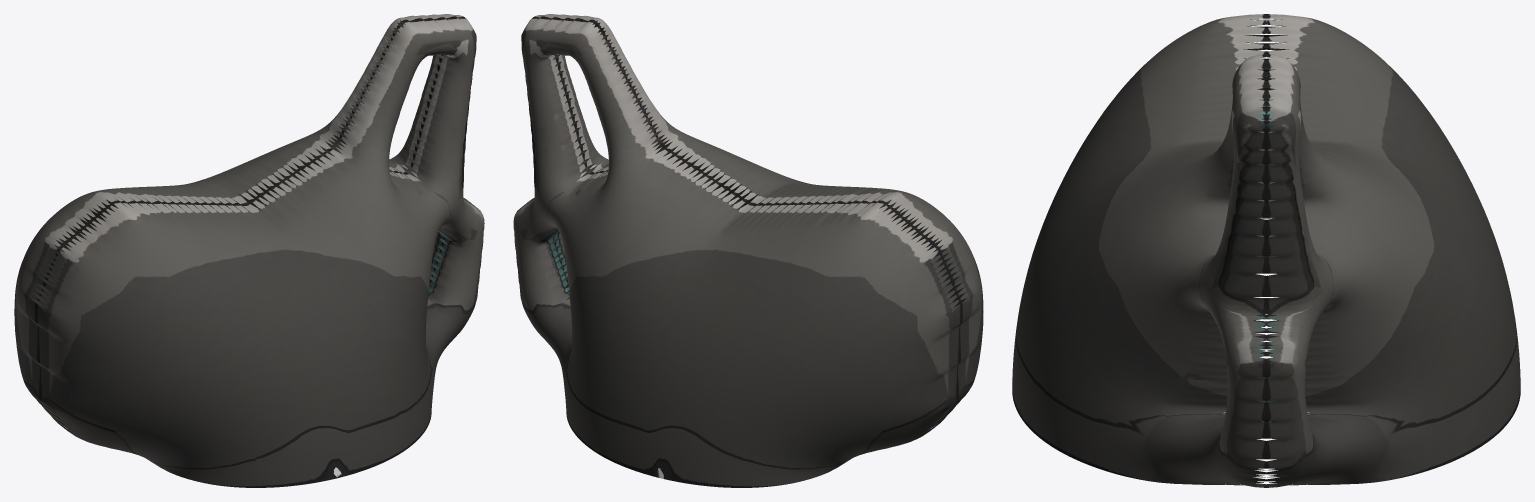
File: rear_bulkhead.glb
The picture shows the model from 3 angles, left to right: view 1: azimuth 30°, elevation 25°; view 2: azimuth 150°, elevation 25°; view 3: azimuth 270°, elevation 25°; orthographic projection. The views are drawn at different scales.
Parts seen in each view (by area): view 1: rear_bulkhead; view 2: rear_bulkhead; view 3: rear_bulkhead.
Part boxes in pixels (x1,y1,x2,y2): rear_bulkhead: (14, 14, 484, 487); rear_bulkhead: (513, 14, 983, 487); rear_bulkhead: (1012, 14, 1520, 487).
Bounding box in the file's own units: 0.9889 × 0.7352 × 0.7708.
Materials: 1 (1 with a texture image).
